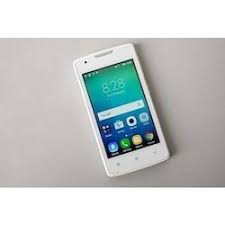lenovo: (71, 42, 171, 178)
